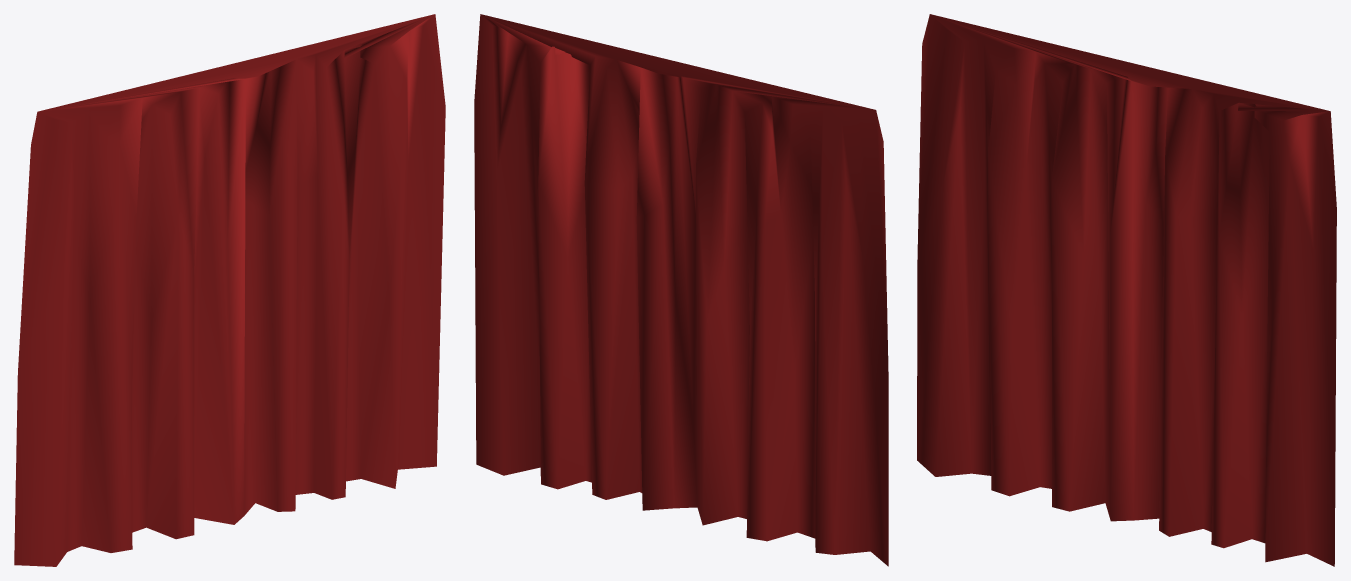
Rendered from Curtain.fbx.
3 views of the same model, side by side, from view 1: azimuth 30°, elevation 25°; view 2: azimuth 150°, elevation 25°; view 3: azimuth 330°, elevation 25° (orthographic).
Visible parts, largest first — view 1: Сurtain; view 2: Сurtain; view 3: Сurtain.
Boxes of the visible parts, x1,y1,x2,y2 form: Сurtain: [14, 14, 445, 566]; Сurtain: [474, 14, 888, 566]; Сurtain: [917, 14, 1336, 566].
Bounding box in the file's own units: 249 × 254 × 23.05.
